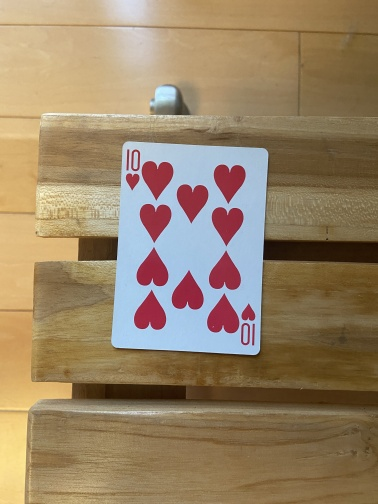ten: (108, 141, 271, 356)
